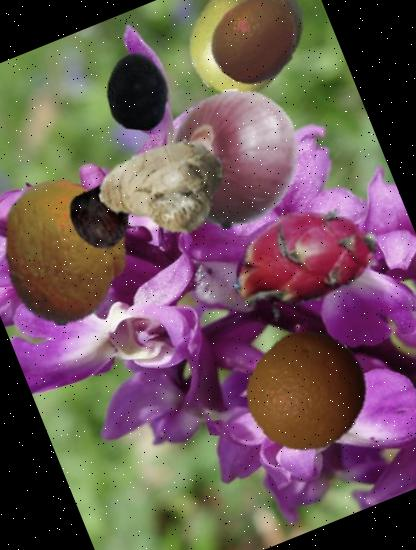Blueberry: (87, 40, 189, 142)
Ginger: (82, 110, 246, 274)
Mandarine: (0, 157, 160, 347)
Onion: (144, 68, 325, 248)
Orange: (228, 312, 386, 470)
Pitahaya: (209, 163, 398, 353)
Plum: (60, 176, 142, 258)
Pomelo: (162, 0, 329, 118)
Tangelo: (194, 0, 319, 100)
